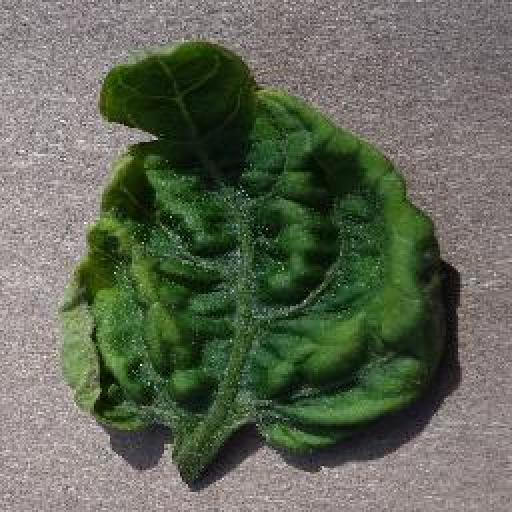Yellow Leaf Curl Virus: (58, 37, 446, 455)
